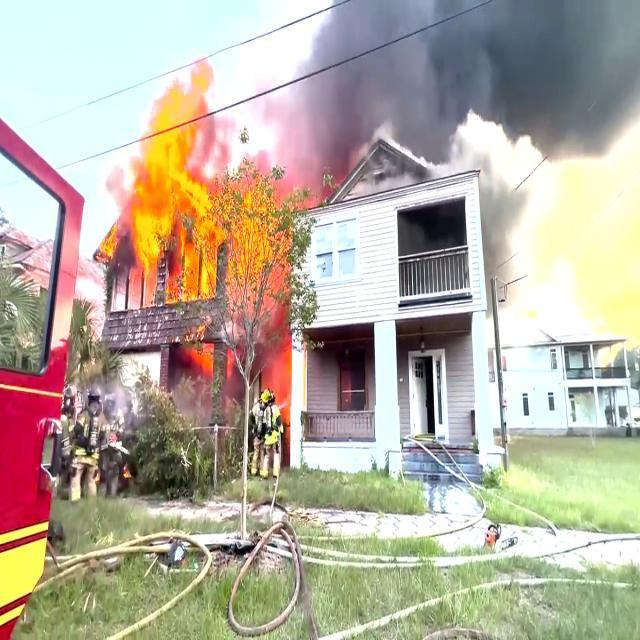Fire: (140, 99, 221, 310), (245, 148, 286, 412)
Smoke: (302, 0, 640, 138)
